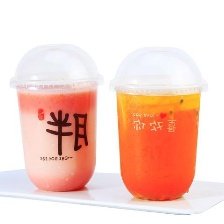glass: (107, 38, 212, 212), (6, 39, 107, 201)
